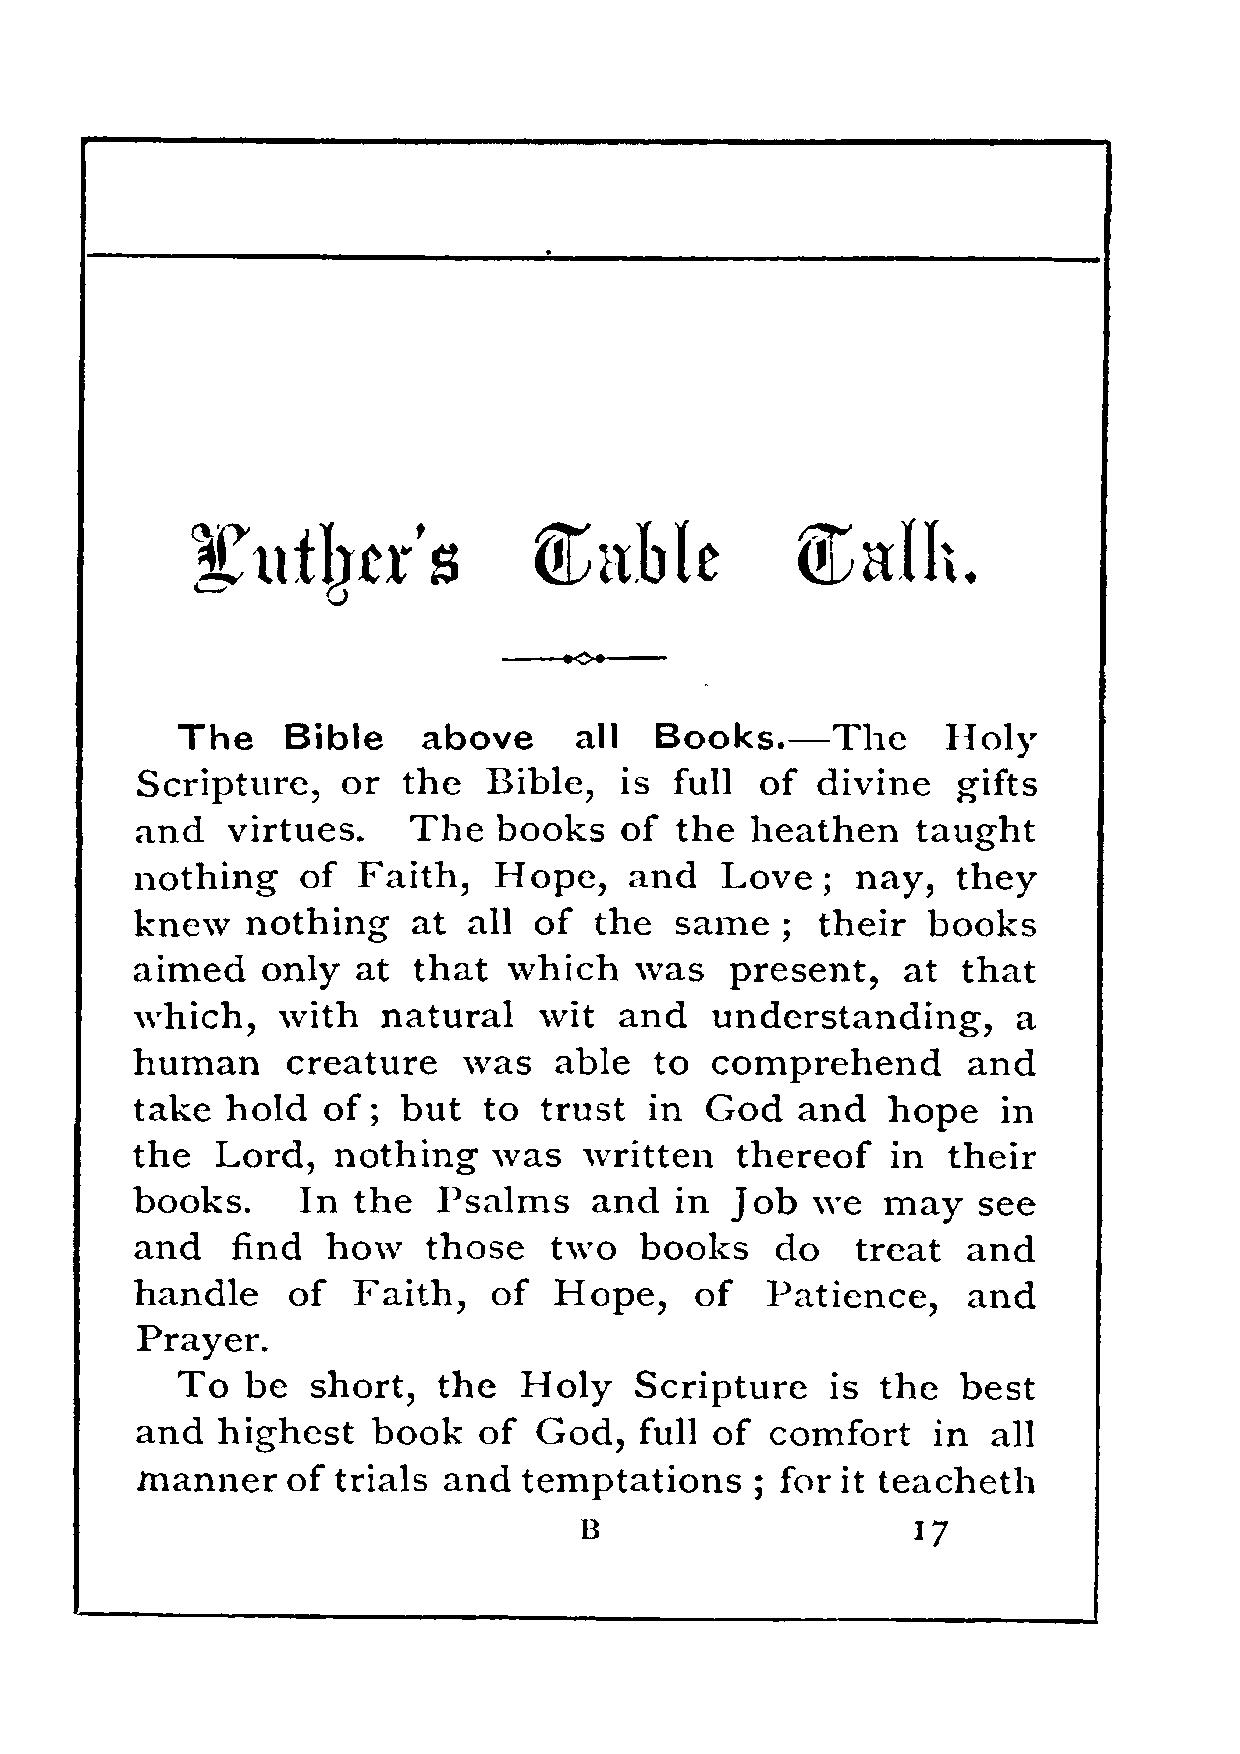chapter: (187, 517, 976, 609)
content: (130, 721, 1037, 1503)
content_pagenumber: (907, 1516, 947, 1553)
